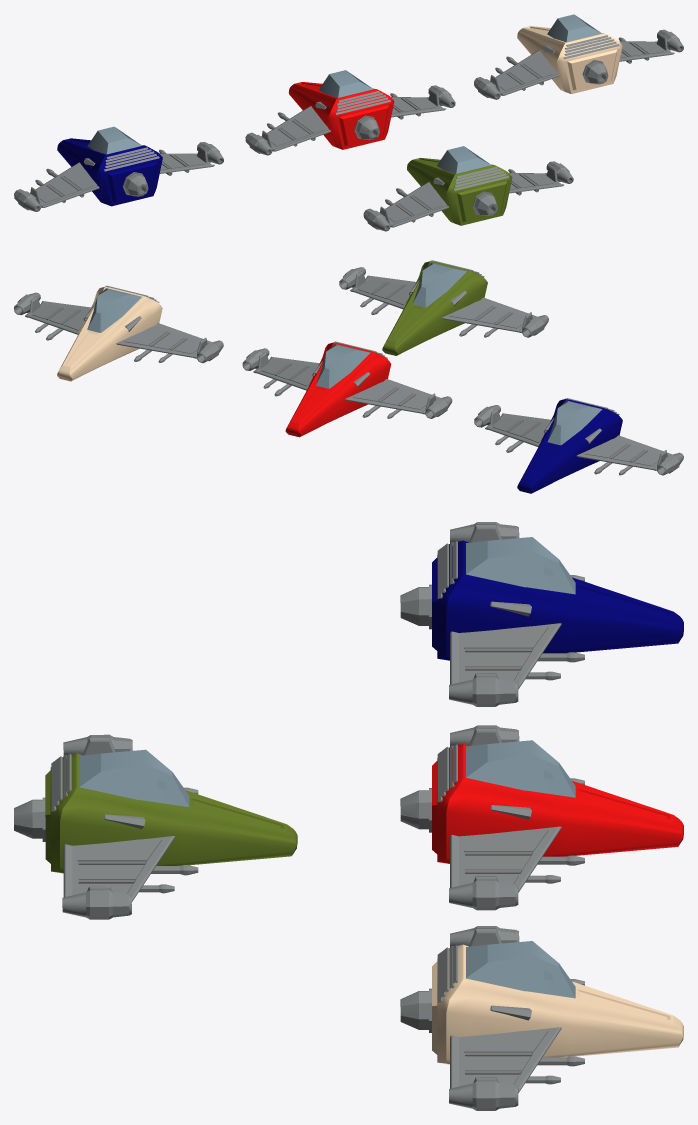
The model's file is ShipsColor.fbx.
3 views of the same model, one above another, from view 1: azimuth 30°, elevation 25°; view 2: azimuth 150°, elevation 25°; view 3: azimuth 270°, elevation 25° (orthographic). The views are drawn at different scales.
Parts seen in each view (by area): view 1: Assembly~7_2, Assembly~7, Assembly~7_4, Assembly~7_3, Assembly~10_3, Assembly~10_4, Assembly~10_2, Assembly~10, Assembly~47, Assembly~47_2, Assembly~47_3, Assembly~47_4 (+16 smaller); view 2: Assembly~7_2, Assembly~7_3, Assembly~7_4, Assembly~7, Assembly~10_3, Assembly~10_2, Assembly~10_4, Assembly~10, Assembly~47_3, Assembly~47_2, Assembly~47_4, Assembly~47 (+12 smaller); view 3: Assembly~7_4, Assembly~7_2, Assembly~7_3, Assembly~7, Assembly~10_4, Assembly~10_3, Assembly~10_2, Assembly~10, Assembly~82_4, Assembly~82_3, Assembly~82_2, Assembly~82 (+14 smaller).
Part boxes in pixels (box(x1,y1,x2,y2)): Assembly~7_2: box(517, 26, 622, 93); Assembly~7: box(288, 82, 394, 149); Assembly~7_4: box(407, 157, 512, 225); Assembly~7_3: box(57, 138, 162, 206); Assembly~10_3: box(87, 126, 141, 154); Assembly~10_4: box(437, 146, 491, 173); Assembly~10_2: box(547, 14, 601, 42); Assembly~10: box(319, 70, 373, 97); Assembly~47: box(261, 105, 330, 151); Assembly~47_2: box(490, 50, 559, 95); Assembly~47_3: box(30, 162, 99, 207); Assembly~47_4: box(379, 181, 448, 227); Assembly~7_2: box(57, 286, 162, 381); Assembly~7_3: box(517, 399, 622, 493); Assembly~7_4: box(382, 261, 487, 355); Assembly~7: box(285, 342, 391, 437); Assembly~10_3: box(547, 400, 602, 445); Assembly~10_2: box(87, 288, 141, 332); Assembly~10_4: box(412, 262, 466, 307); Assembly~10: box(316, 344, 370, 388); Assembly~47_3: box(576, 435, 672, 470); Assembly~47_2: box(116, 323, 211, 358); Assembly~47_4: box(441, 297, 537, 332); Assembly~47: box(345, 379, 440, 414); Assembly~7_4: box(45, 753, 297, 873); Assembly~7_2: box(432, 944, 683, 1064); Assembly~7_3: box(432, 540, 683, 660); Assembly~7: box(432, 744, 683, 863); Assembly~10_4: box(79, 749, 189, 806); Assembly~10_3: box(466, 537, 575, 594); Assembly~10_2: box(466, 941, 575, 998); Assembly~10: box(466, 740, 575, 797); Assembly~82_4: box(63, 836, 175, 902); Assembly~82_3: box(450, 623, 561, 689); Assembly~82_2: box(450, 1027, 561, 1092); Assembly~82: box(450, 826, 561, 892).
Bounding box in the file's own units: 76.15 × 37.39 × 6.36.
